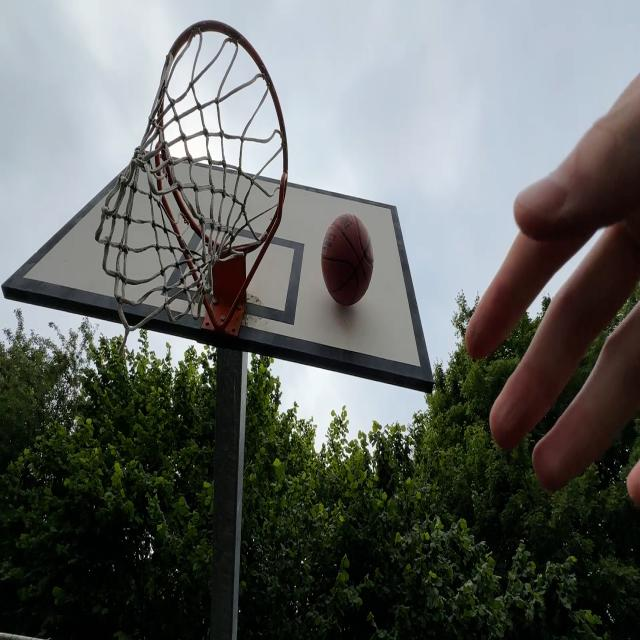rebound_hit: (321, 213, 374, 317)
